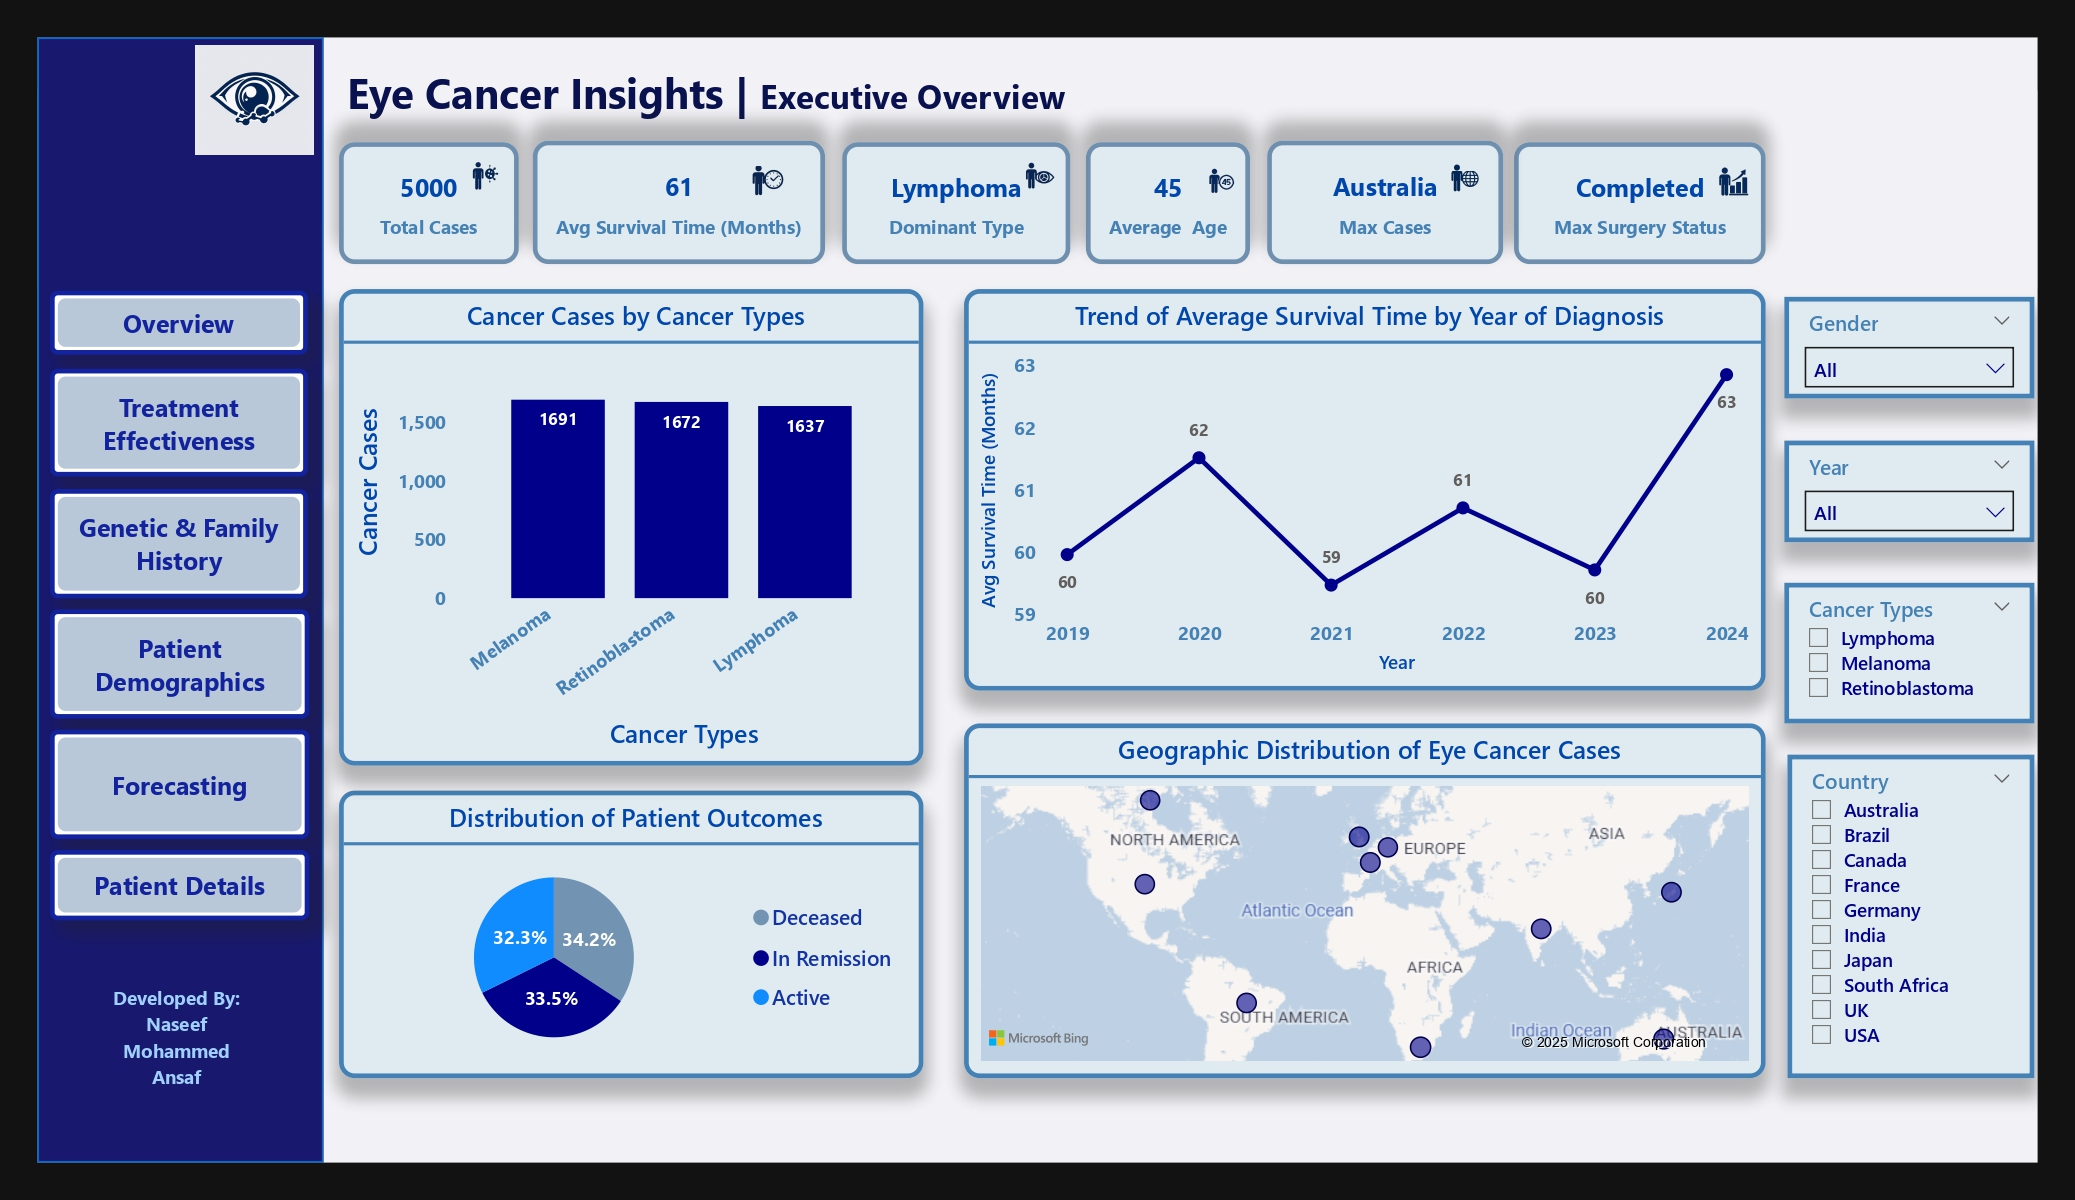

The page's visual inventory and layout, read from the dashboard file:
{"tool":"powerbi","page":{"name":"Overview","canvas":[1280,720],"ordinal":0},"visuals":[{"type":"shape","box":[0,0,182.8,720.2],"z":0},{"type":"card","fields":{"Values":["Count(Eye cancer patients dataset_cleaned.Patient_ID)"]},"box":[192.9,67.1,115.3,77.6],"z":1000,"group":"g1"},{"type":"card","fields":{"Values":["Avg(Eye cancer patients dataset_cleaned.Age)"]},"box":[670.8,67.1,104.7,77.6],"z":1000,"group":"g3"},{"type":"lineChart","title":"Trend of Average Survival Time by Year of Diagnosis","fields":{"Y":["Avg(Eye cancer patients dataset_cleaned.Survival_Time_Months)"],"Category":["Eye cancer patients dataset_cleaned.Date_of_Diagnosis.Variation.Date Hierarchy.Year"]},"box":[592.9,161.2,512.9,256.5],"z":1000},{"type":"card","fields":{"Values":["Avg(Eye cancer patients dataset_cleaned.Survival_Time_Months)"]},"box":[316.6,65.9,187.1,78.8],"z":2000,"group":"g2"},{"type":"card","fields":{"Values":["Min(Eye cancer patients dataset_cleaned.Country)"]},"box":[787.3,65.9,150.6,78.8],"z":2000,"group":"g5"},{"type":"pieChart","title":"Distribution of Patient Outcomes","fields":{"Category":["Eye cancer patients dataset_cleaned.Outcome_Status"],"Y":["CountNonNull(Eye cancer patients dataset_cleaned.Patient_ID)"]},"box":[192.9,482.4,374.1,183.5],"z":2000},{"type":"card","fields":{"Values":["Min(Eye cancer patients dataset_cleaned.Cancer_Type)"]},"box":[515.5,67.1,145.9,77.6],"z":3000,"group":"g6"},{"type":"map","title":"Geographic Distribution of Eye Cancer Cases","fields":{"Category":["Eye cancer patients dataset_cleaned.Country"],"Size":["CountNonNull(Eye cancer patients dataset_cleaned.Patient_ID)"]},"box":[592.9,438.8,512.9,227.1],"z":3000},{"type":"columnChart","fields":{"Category":["Eye cancer patients dataset_cleaned.Cancer_Type"],"Y":["CountNonNull(Eye cancer patients dataset_cleaned.Patient_ID)"]},"box":[192.9,161.2,374.1,304.7],"z":4000},{"type":"slicer","fields":{"Values":["Eye cancer patients dataset_cleaned.Gender"]},"box":[1117.9,165.9,160,64.7],"z":5000},{"type":"slicer","fields":{"Values":["Eye cancer patients dataset_cleaned.Cancer_Type"]},"box":[1117.6,349.4,160,89.4],"z":6000},{"type":"slicer","fields":{"Values":["Eye cancer patients dataset_cleaned.Date_of_Diagnosis.Variation.Date Hierarchy.Year"]},"box":[1117.9,257.8,160,64.7],"z":7000},{"type":"slicer","fields":{"Values":["Eye cancer patients dataset_cleaned.Country"]},"box":[1120,458.8,157.6,207.1],"z":8000},{"type":"textbox","box":[182.4,11.8,491.8,48.2],"z":9000},{"type":"image","box":[96.5,0,85.9,80],"z":10000},{"type":"group","id":"g1","title":"Group 1","box":[192.9,67.1,115.3,77.6],"z":11000},{"type":"card","fields":{"Values":["Min(Eye cancer patients dataset_cleaned.Surgery_Status)"]},"box":[944.7,67.1,161.2,77.6],"z":11000,"group":"g4"},{"type":"group","id":"g2","title":"Group 2","box":[316.6,65.9,187.1,78.8],"z":12000},{"type":"group","id":"g3","title":"Group 4","box":[670.8,67.1,104.7,77.6],"z":13000},{"type":"group","id":"g4","title":"Group 6","box":[944.7,67.1,161.2,77.6],"z":14000},{"type":"group","id":"g5","title":"Group 5","box":[787.3,65.9,150.6,78.8],"z":15000},{"type":"image","box":[263.1,69.5,45.1,38.8],"z":15002,"group":"g1"},{"type":"image","box":[441.3,69.5,49.4,44.2],"z":15004,"group":"g2"},{"type":"image","box":[622.6,69.5,37.6,38.8],"z":15006,"group":"g6"},{"type":"group","id":"g6","title":"Group 3","box":[515.5,67.1,145.9,77.6],"z":16000},{"type":"image","box":[1062.3,71.8,43.5,42.4],"z":16001,"group":"g4"},{"type":"image","box":[739,70.6,36.5,42.4],"z":17000,"group":"g3"},{"type":"actionButton","box":[7.6,162.5,165.6,40.5],"z":17000},{"type":"image","box":[893.2,69.4,41.2,41.2],"z":17002,"group":"g5"},{"type":"actionButton","box":[7.6,211.5,165.6,69.9],"z":18000},{"type":"actionButton","box":[7.6,288.9,165.6,69.9],"z":19000},{"type":"actionButton","box":[8.4,365.8,165.6,69.9],"z":21000},{"type":"actionButton","box":[8.4,443.1,165.6,69.9],"z":22000},{"type":"actionButton","box":[8.4,520.4,165.6,44.2],"z":23000},{"type":"textbox","box":[38,600,101.8,85.9],"z":24000}]}

Visuals, with their boxes on the page's 1280x720 design canvas (x1, y1, x2, y2). These are canvas units, not pixel positions in the 2075x1200 screenshot, which may show the page scaled, cropped or inside an application window:
shape: BBox(0, 0, 183, 720)
card - Count(Eye cancer patients dataset_cleaned.Patient_ID): BBox(193, 67, 308, 145)
card - Avg(Eye cancer patients dataset_cleaned.Age): BBox(671, 67, 776, 145)
"Trend of Average Survival Time by Year of Diagnosis" lineChart: BBox(593, 161, 1106, 418)
card - Avg(Eye cancer patients dataset_cleaned.Survival_Time_Months): BBox(317, 66, 504, 145)
card - Min(Eye cancer patients dataset_cleaned.Country): BBox(787, 66, 938, 145)
"Distribution of Patient Outcomes" pieChart: BBox(193, 482, 567, 666)
card - Min(Eye cancer patients dataset_cleaned.Cancer_Type): BBox(516, 67, 661, 145)
"Geographic Distribution of Eye Cancer Cases" map: BBox(593, 439, 1106, 666)
columnChart - Eye cancer patients dataset_cleaned.Cancer_Type x CountNonNull(Eye cancer patients dataset_cleaned.Patient_ID): BBox(193, 161, 567, 466)
slicer - Eye cancer patients dataset_cleaned.Gender: BBox(1118, 166, 1278, 231)
slicer - Eye cancer patients dataset_cleaned.Cancer_Type: BBox(1118, 349, 1278, 439)
slicer - Eye cancer patients dataset_cleaned.Date_of_Diagnosis.Variation.Date Hierarchy.Year: BBox(1118, 258, 1278, 322)
slicer - Eye cancer patients dataset_cleaned.Country: BBox(1120, 459, 1278, 666)
textbox: BBox(182, 12, 674, 60)
image: BBox(96, 0, 182, 80)
"Group 1" group: BBox(193, 67, 308, 145)
card - Min(Eye cancer patients dataset_cleaned.Surgery_Status): BBox(945, 67, 1106, 145)
"Group 2" group: BBox(317, 66, 504, 145)
"Group 4" group: BBox(671, 67, 776, 145)
"Group 6" group: BBox(945, 67, 1106, 145)
"Group 5" group: BBox(787, 66, 938, 145)
image: BBox(263, 70, 308, 108)
image: BBox(441, 70, 491, 114)
image: BBox(623, 70, 660, 108)
"Group 3" group: BBox(516, 67, 661, 145)
image: BBox(1062, 72, 1106, 114)
image: BBox(739, 71, 776, 113)
actionButton: BBox(8, 162, 173, 203)
image: BBox(893, 69, 934, 111)
actionButton: BBox(8, 212, 173, 281)
actionButton: BBox(8, 289, 173, 359)
actionButton: BBox(8, 366, 174, 436)
actionButton: BBox(8, 443, 174, 513)
actionButton: BBox(8, 520, 174, 565)
textbox: BBox(38, 600, 140, 686)
